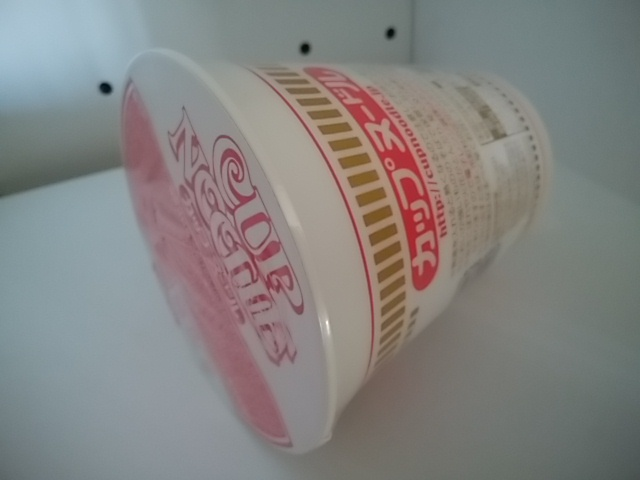cup-ramen: (109, 48, 558, 452)
